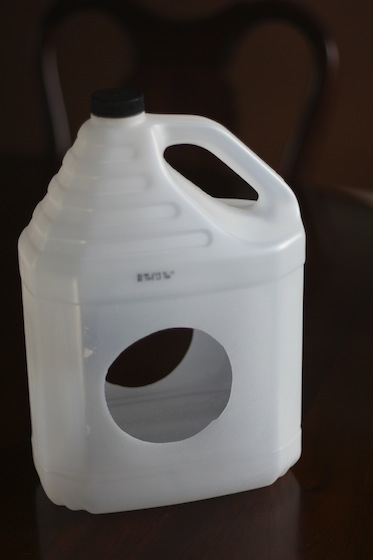Rec_Plastic: (22, 80, 326, 507)
